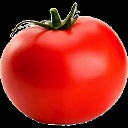tomato: (1, 17, 128, 125)
